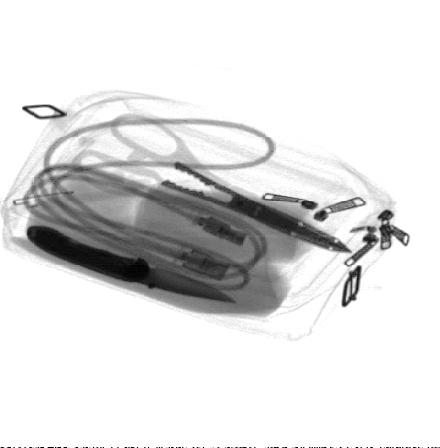Knife: (25, 225, 241, 303)
Scissors: (68, 111, 354, 253)
